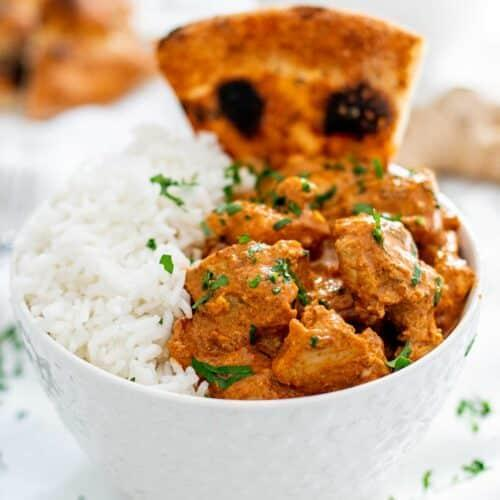chicken: (226, 171, 430, 387)
rice: (44, 159, 194, 383)
